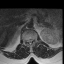CCS_normal: (29, 37, 31, 46)
LFS_severe_stenosis: (33, 37, 34, 42)
LLS_normal: (31, 37, 33, 44)
RFS_stenosis: (25, 38, 27, 43)
RLS_normal: (27, 37, 29, 44)
